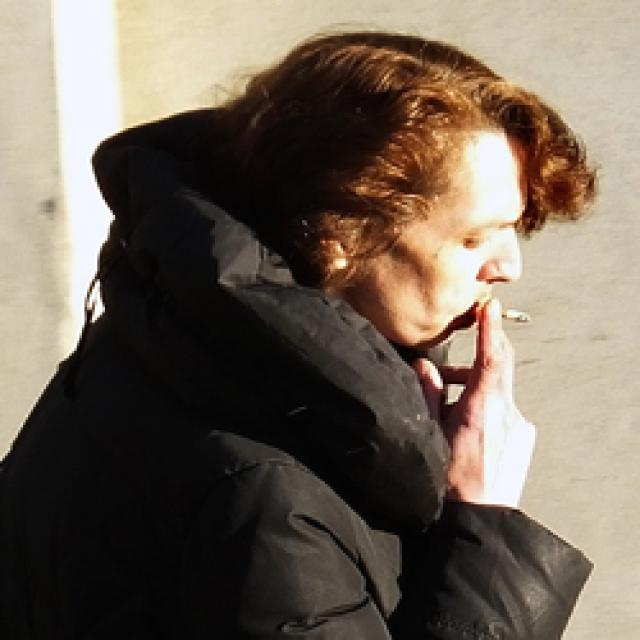Smooking: (495, 299, 531, 336)
